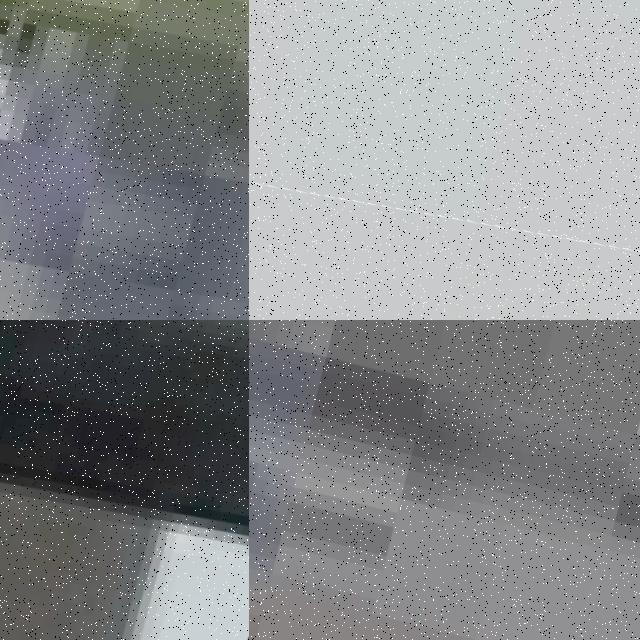0: (0, 0, 249, 320), (249, 132, 640, 320)
drone: (0, 320, 249, 640)
